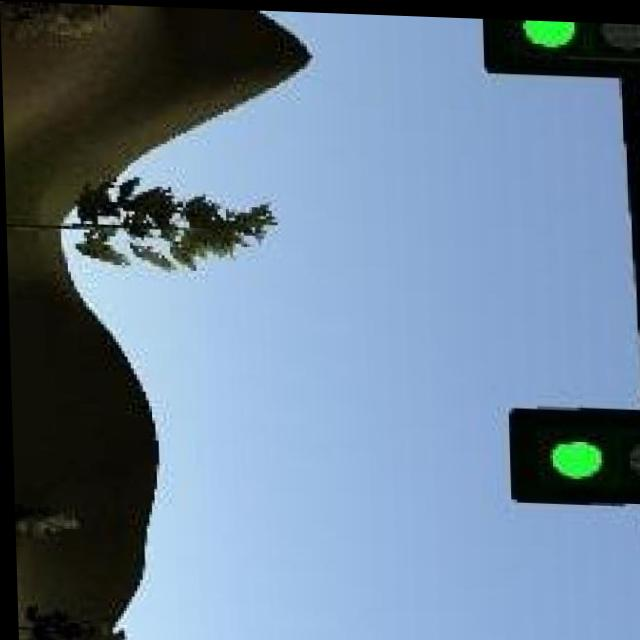green light: (503, 402, 640, 504), (485, 14, 638, 76)
